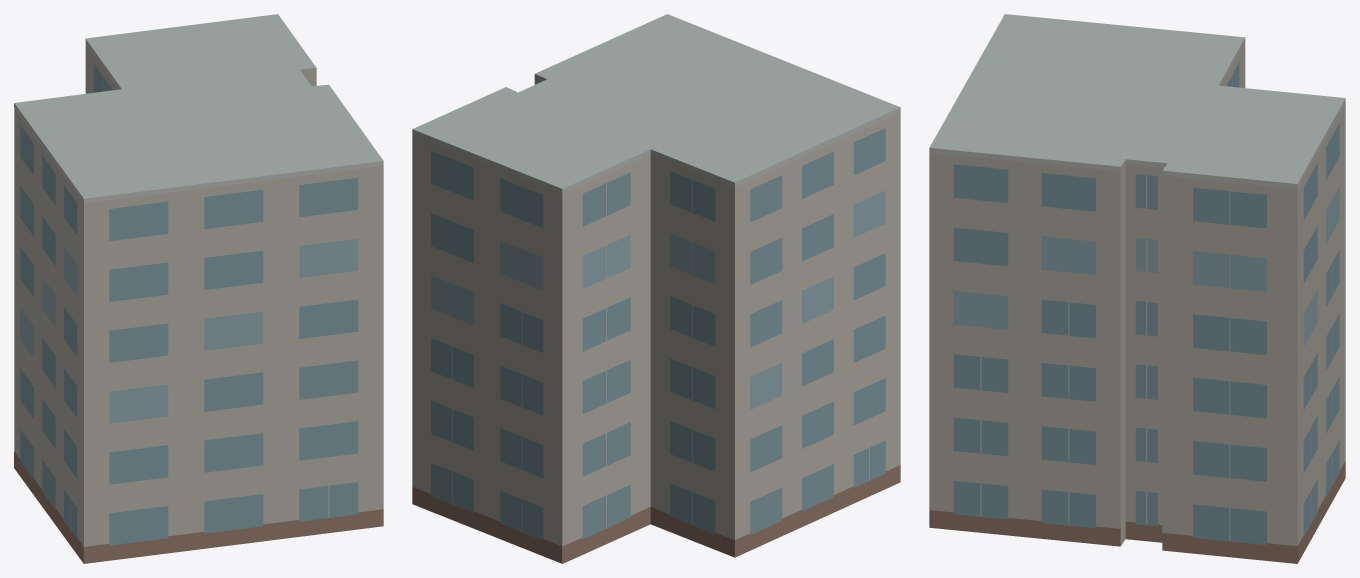
Rendered from survey-upis-32678269.glb.
The picture shows the model from 3 angles, left to right: view 1: azimuth 30°, elevation 25°; view 2: azimuth 150°, elevation 25°; view 3: azimuth 270°, elevation 25°; orthographic projection. The views are drawn at different scales.
Parts seen in each view (by area): view 1: survey-upis-32678269.tmp; view 2: survey-upis-32678269.tmp; view 3: survey-upis-32678269.tmp.
Boxes of the visible parts, left/top/right/bottom form: survey-upis-32678269.tmp: left=14, top=14, right=383, bottom=563; survey-upis-32678269.tmp: left=412, top=14, right=900, bottom=563; survey-upis-32678269.tmp: left=929, top=14, right=1345, bottom=563.
Bounding box in the file's own units: 17.57 × 18.3 × 18.19.
